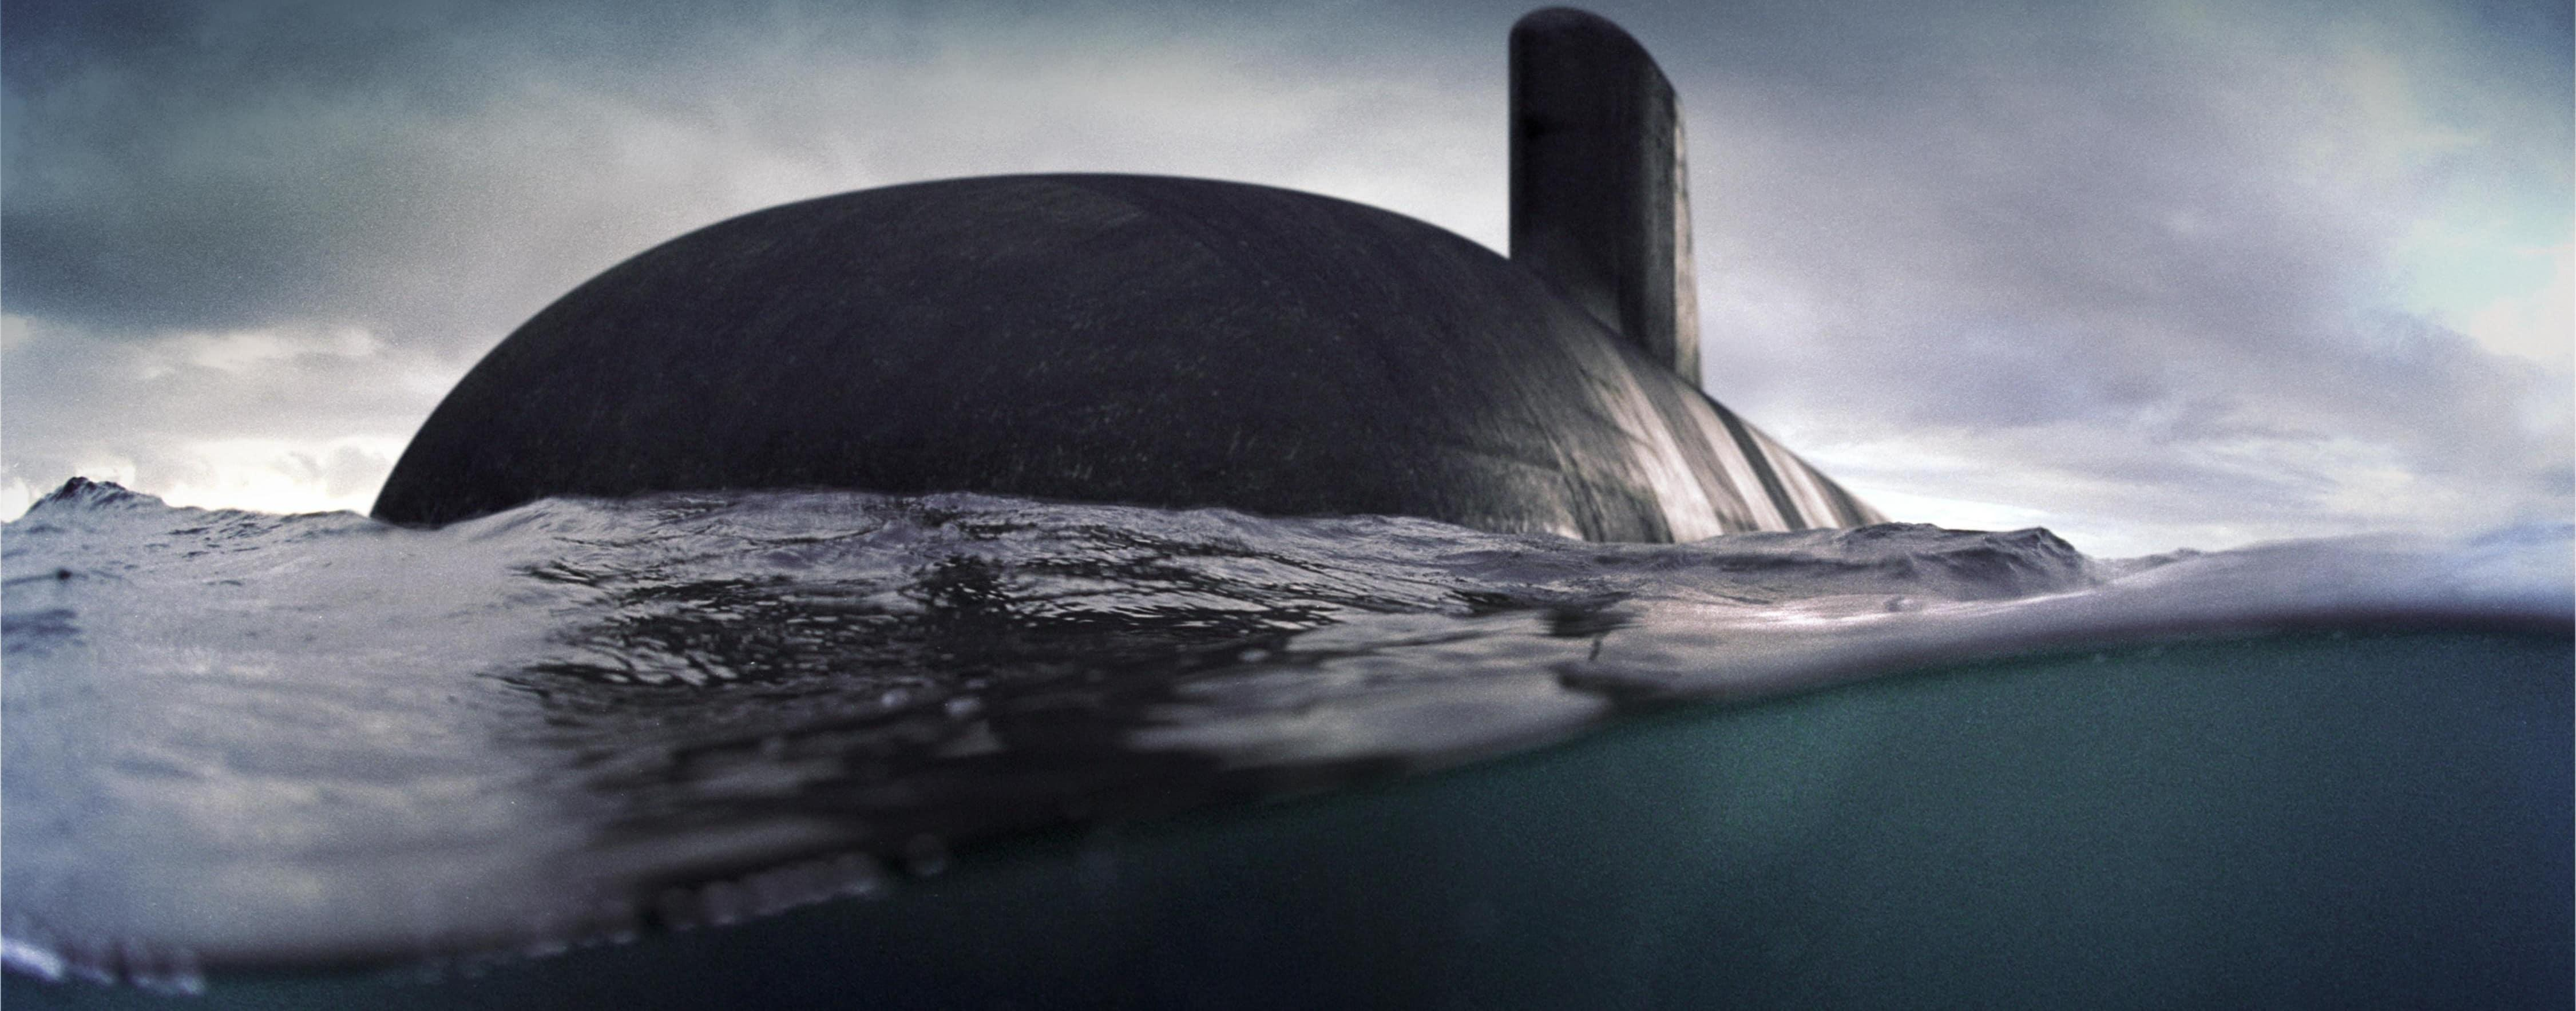Submarine: (274, 0, 2175, 649)
